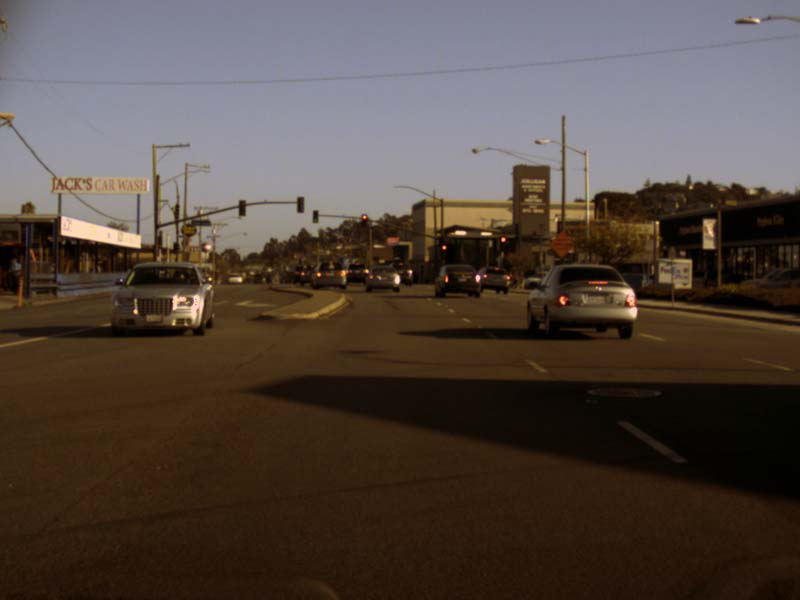Green: (312, 210, 317, 222)
Red: (500, 235, 506, 249), (361, 214, 366, 226), (441, 243, 445, 254)
